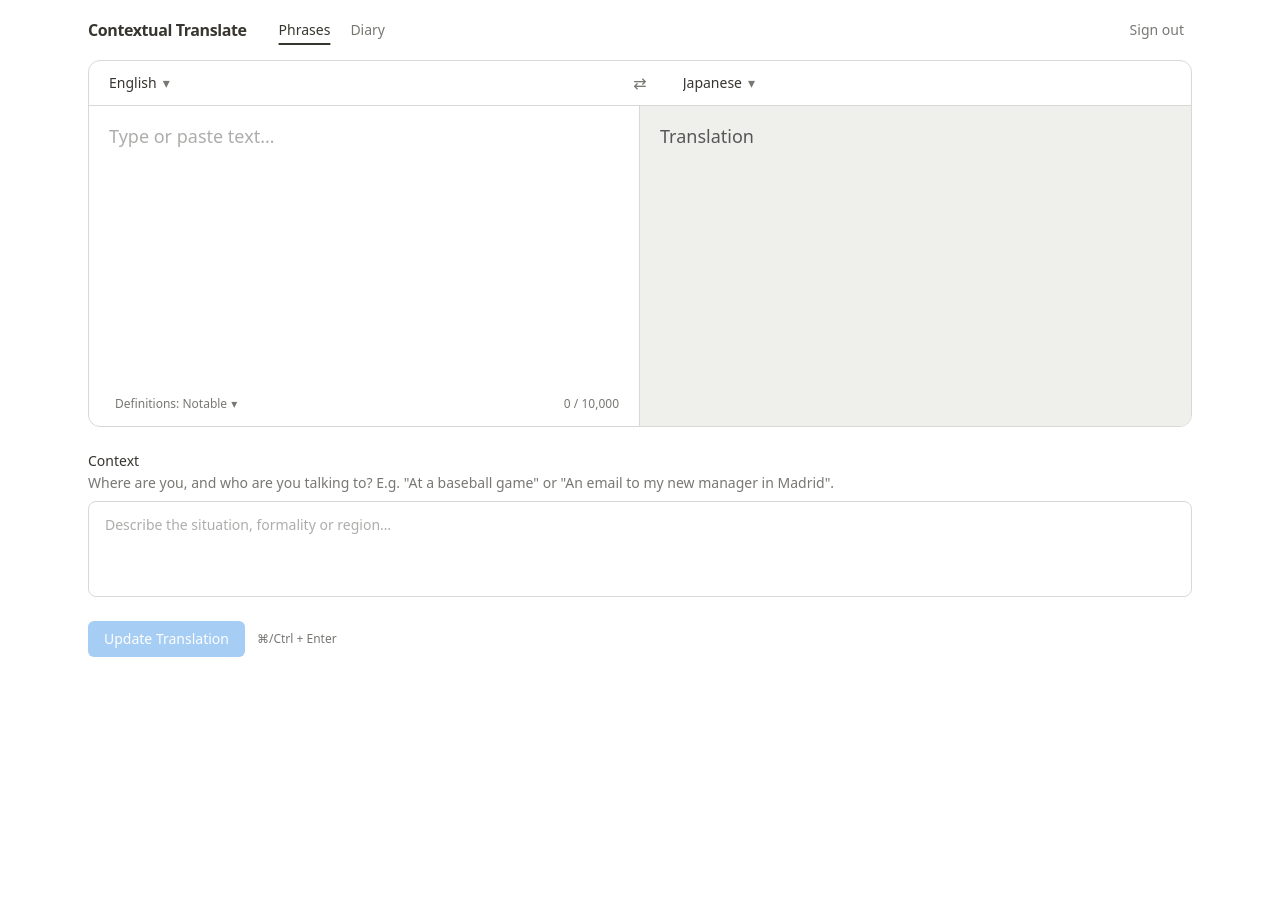
App session flow › stays signed in, and says so, when signing out fails
Click the button "Sign out".
click(1157, 30)  # box [1122,16,1192,44]
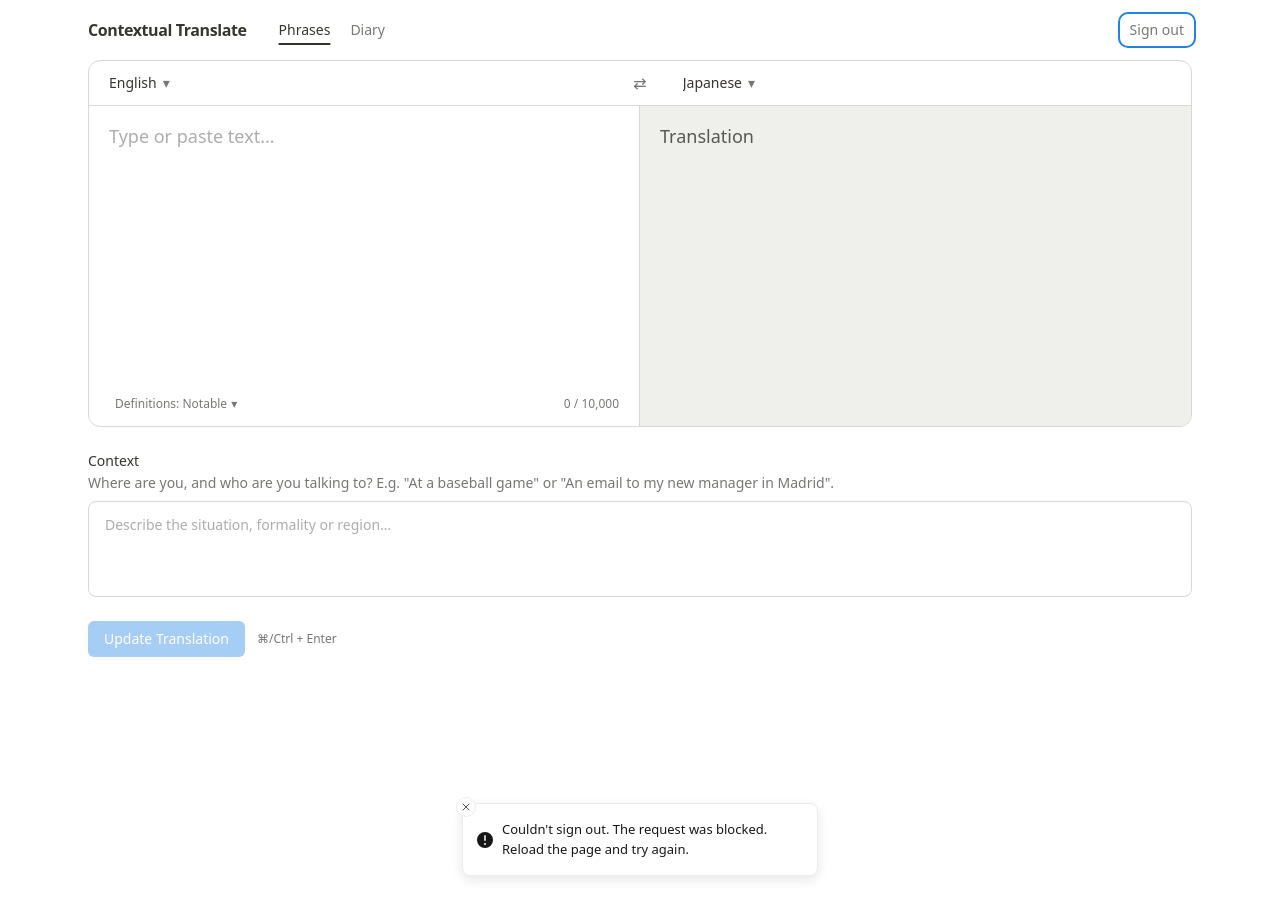
Expected: the text "Couldn't sign out" is shown, [502,820,767,858]
